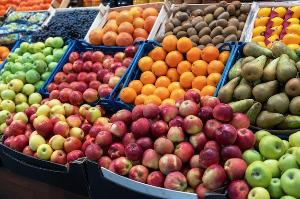apple: (106, 88, 251, 196), (2, 107, 100, 166), (47, 42, 142, 100), (0, 36, 68, 96), (246, 125, 300, 199), (0, 78, 36, 120), (259, 136, 285, 160), (183, 115, 204, 134), (36, 120, 53, 137), (32, 60, 47, 74), (69, 52, 81, 63)
grape: (34, 6, 100, 42), (0, 8, 48, 42)
grapes: (27, 12, 48, 24), (85, 11, 97, 20)
kiwi: (165, 0, 249, 46), (204, 4, 218, 15)
lemon: (242, 1, 300, 54), (258, 8, 272, 17)
orange: (113, 36, 232, 104), (84, 0, 163, 46), (201, 46, 220, 63), (115, 11, 134, 26)
pear: (232, 41, 300, 129), (277, 54, 298, 83)
